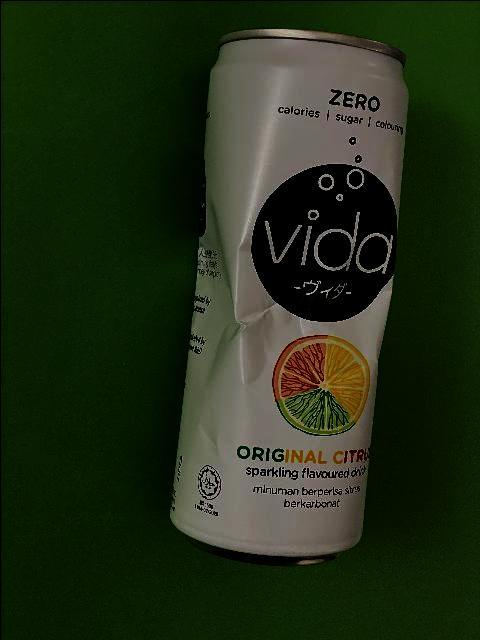drinkcan: (165, 23, 411, 569)
